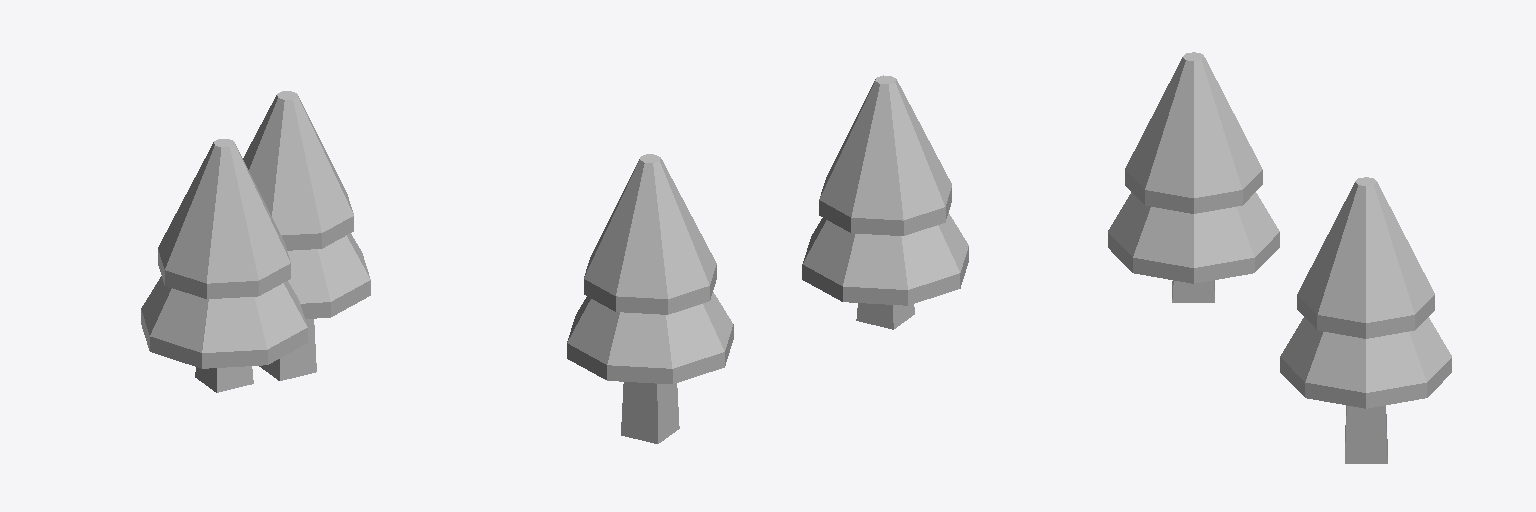
Rendered from TreeDoubleCornerDownWards.obj.
The picture shows the model from 3 angles: view 1: azimuth 30°, elevation 25°; view 2: azimuth 150°, elevation 25°; view 3: azimuth 270°, elevation 25°; orthographic projection.
Visible parts, largest first — view 1: tree.010_tree.007; view 2: tree.010_tree.007; view 3: tree.010_tree.007.
Part boxes in pixels (left/top/right/bottom): tree.010_tree.007: left=141, top=91, right=370, bottom=392; tree.010_tree.007: left=567, top=75, right=968, bottom=443; tree.010_tree.007: left=1108, top=52, right=1451, bottom=463.
Bounding box in the file's own units: 1 × 1.04 × 1.